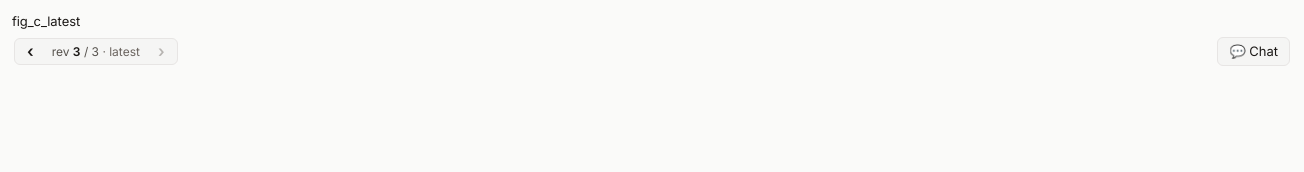
Test: RevisionStrip › swaps the displayed entity in-place when chevrons are clicked
Check: the text with test id "displayed-id" reads "fig_c_latest", box [12,13,80,29]
Click the button named "Older revision" at x=30, y=51, box [19,41,42,61]
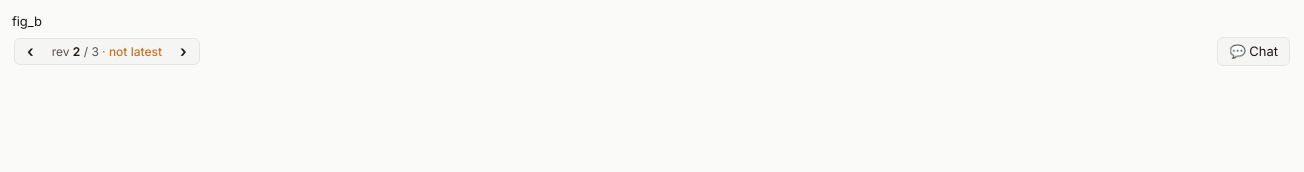
Check: the text with test id "displayed-id" reads "fig_b", box [12,13,42,29]
Click the button named "Older revision" at x=30, y=51, box [19,41,42,61]
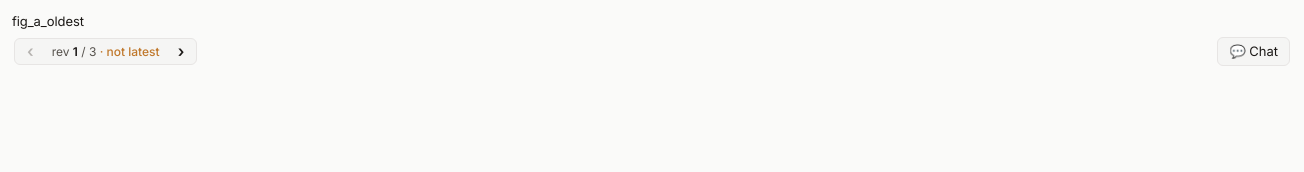
Check: the text with test id "displayed-id" reads "fig_a_oldest", box [12,13,84,29]
Check: the button named "Older revision" is disabled, box [19,41,42,61]
